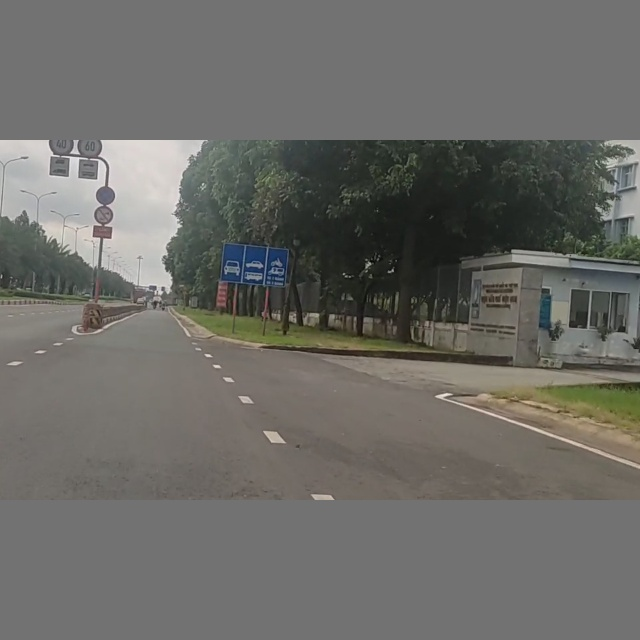P.111: (94, 205, 113, 223)
P.130: (95, 185, 115, 205)
R.415a: (219, 242, 289, 289)
